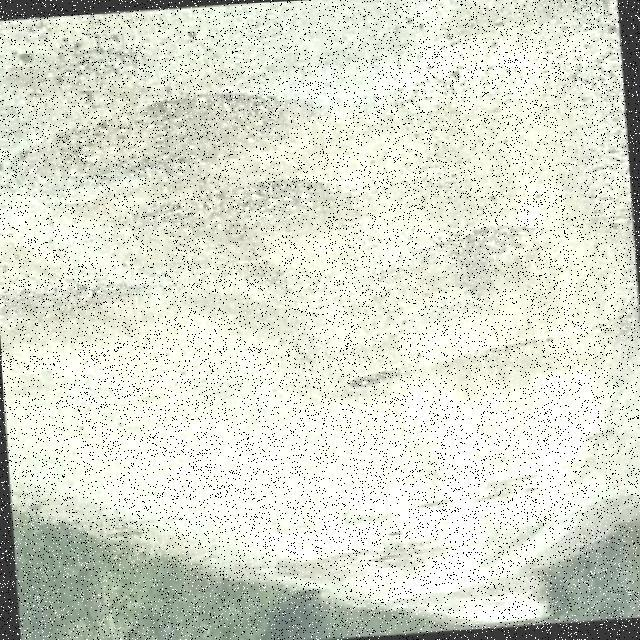Pothole: (16, 94, 315, 194), (133, 180, 360, 246), (345, 337, 551, 391), (429, 223, 552, 301), (0, 281, 157, 318)
